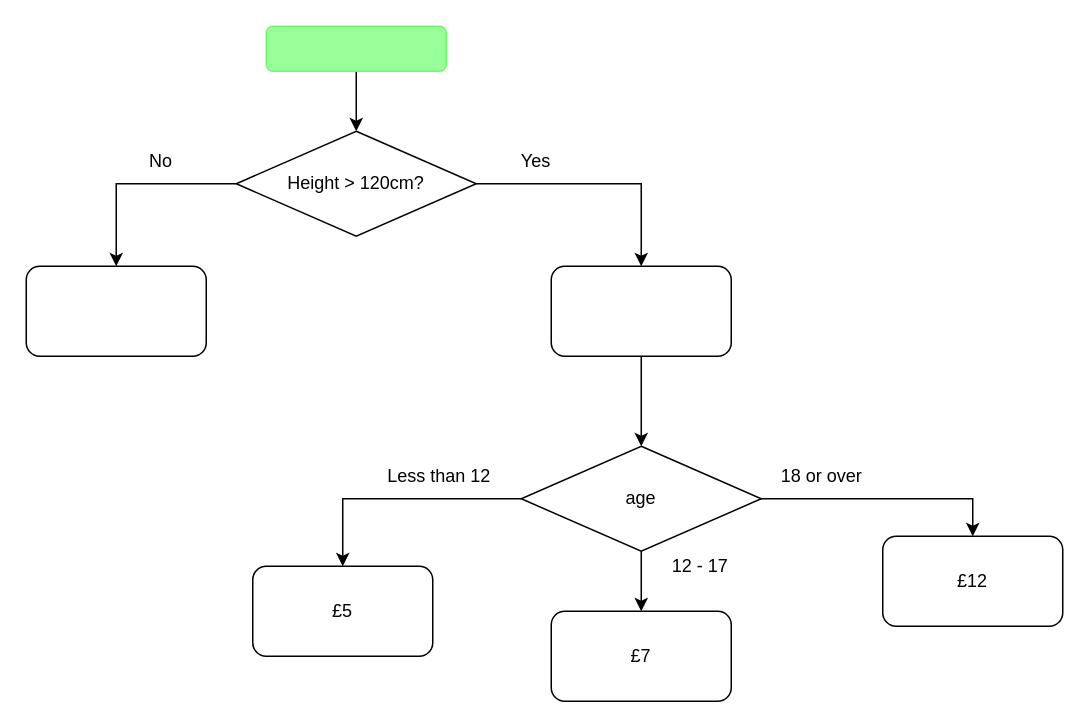
The diagram is 1089 pixels wide and 728 high, and some of its shapes have lost their labels. Here are the shapes that lost their labels. From the top down, the box of each, then its label:
(265, 25, 446, 71): Start
(25, 265, 206, 356): Can`t ride
(550, 265, 731, 356): Can ride
